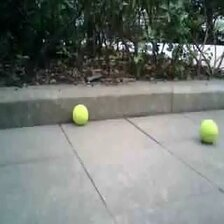tennis: (198, 119, 218, 142), (72, 104, 89, 126)
